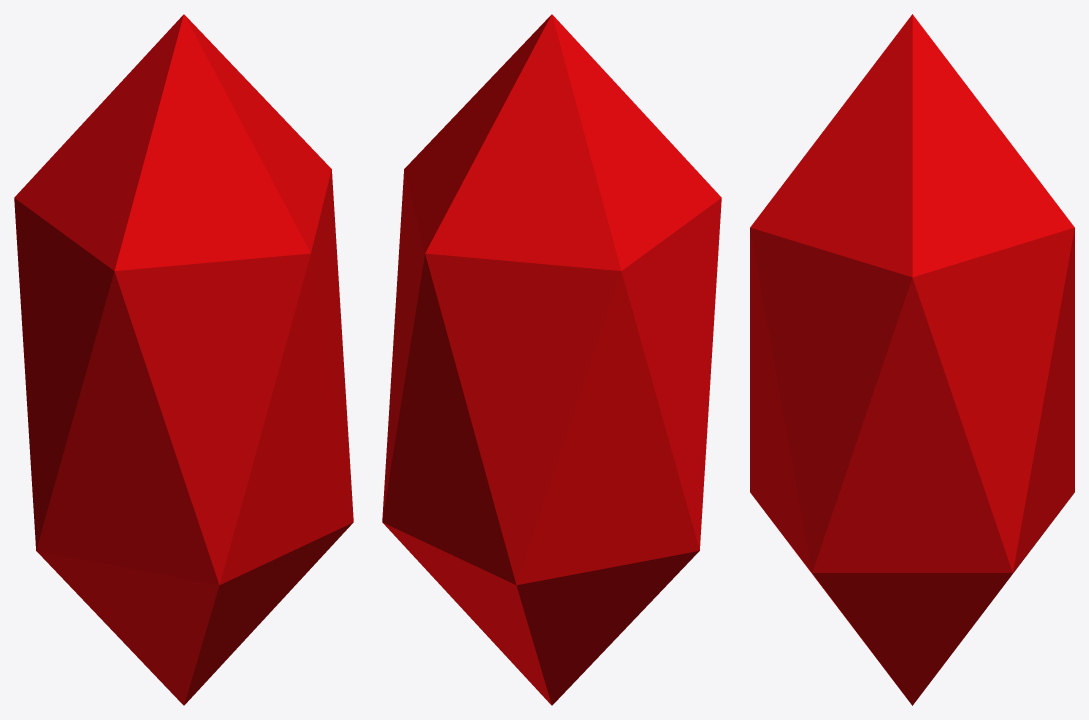
File: crystal3.gltf
3 views of the same model, side by side, from view 1: azimuth 30°, elevation 25°; view 2: azimuth 150°, elevation 25°; view 3: azimuth 270°, elevation 25° (orthographic).
Parts seen in each view (by area): view 1: Icosphere.002; view 2: Icosphere.002; view 3: Icosphere.002.
Boxes of the visible parts, bbox=[...] form: Icosphere.002: bbox=[14, 14, 353, 705]; Icosphere.002: bbox=[382, 14, 721, 705]; Icosphere.002: bbox=[750, 14, 1074, 705].
Bounding box in the file's own units: 1.79 × 4 × 1.7.
